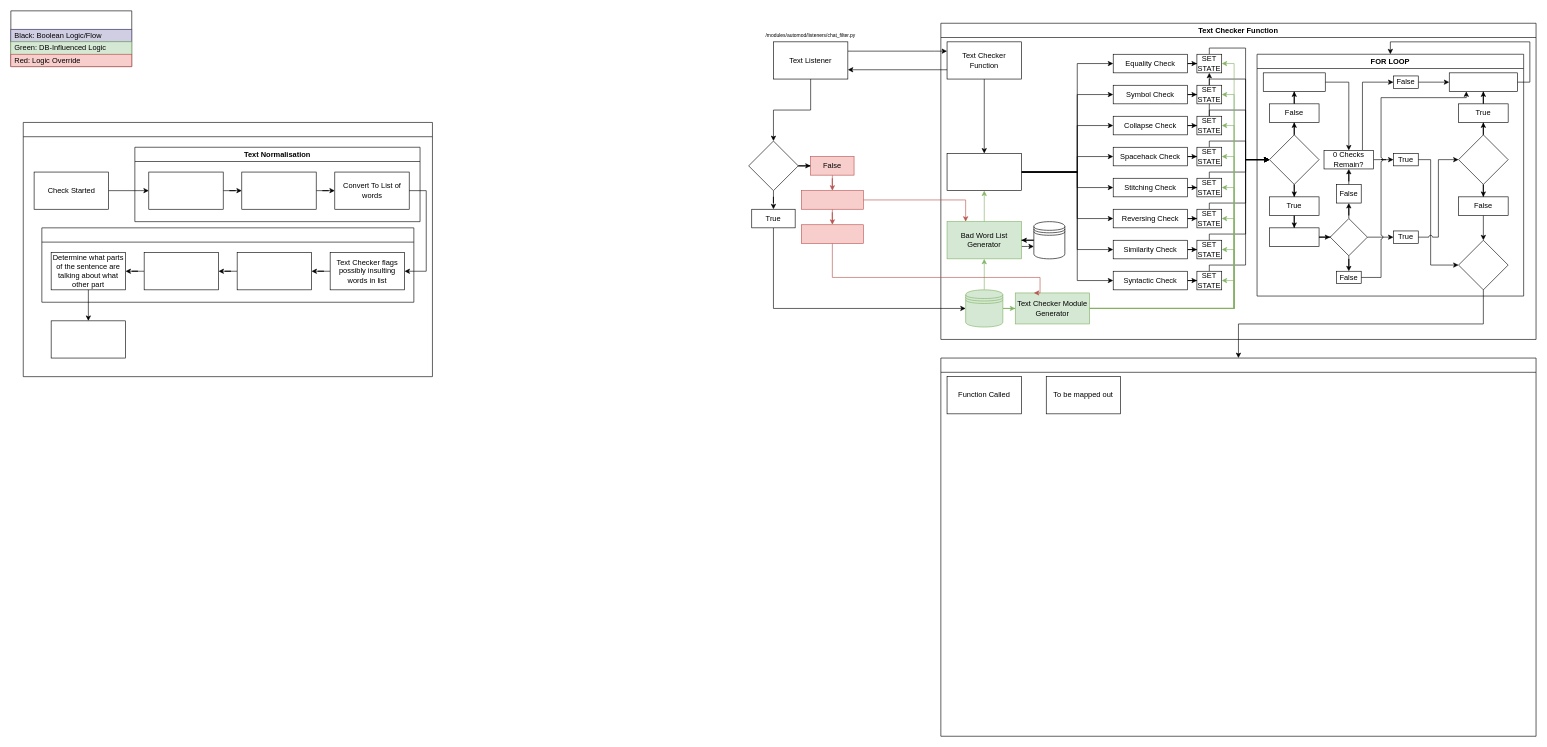
Image size: 1547x747. Some labels were removed from this diagram. Here are the shapes that lost their labels. From the top down, the box of each, then its label:
(10, 10, 132, 67): Line Colour Legend
(1263, 72, 1325, 91): Do not run
(1449, 72, 1517, 91): Continue Looping through Checks
(748, 140, 798, 191): Has Guild_id
(946, 153, 1021, 191): Check Run Pipeline
(1269, 134, 1319, 184): Check Online?
(1458, 134, 1508, 184): Word Whitelisted
(148, 171, 223, 209): Remove White Space
(241, 171, 316, 209): Undo Contractions like "Can't"
(801, 190, 863, 209): Include All Possible Words
(23, 122, 432, 377): Syntactic Analysis Checker
(801, 224, 863, 243): Enable All Checks
(1033, 221, 1065, 259): Cache
(1269, 227, 1319, 246): Run Check
(1330, 218, 1367, 256): Flagged?
(144, 252, 219, 290): NLTK Converts list of words to list of parts of speech
(41, 227, 414, 302): Language breakdown
(237, 252, 312, 290): Get list of all guild member's names and add those as proper nouns
(1458, 240, 1508, 290): Return Guilt State
(965, 289, 1003, 327): Guild Prefs
(51, 320, 126, 358): Find insults to other users
(940, 357, 1536, 736): Handle Guilty Function
